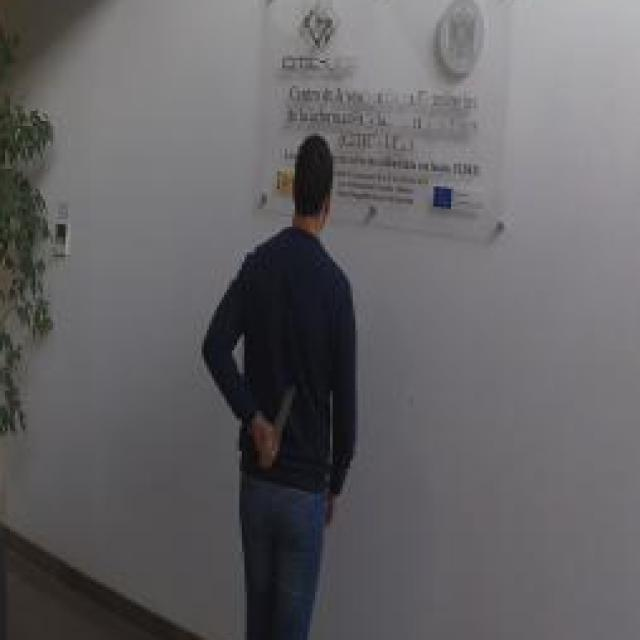knife: (257, 378, 297, 470)
